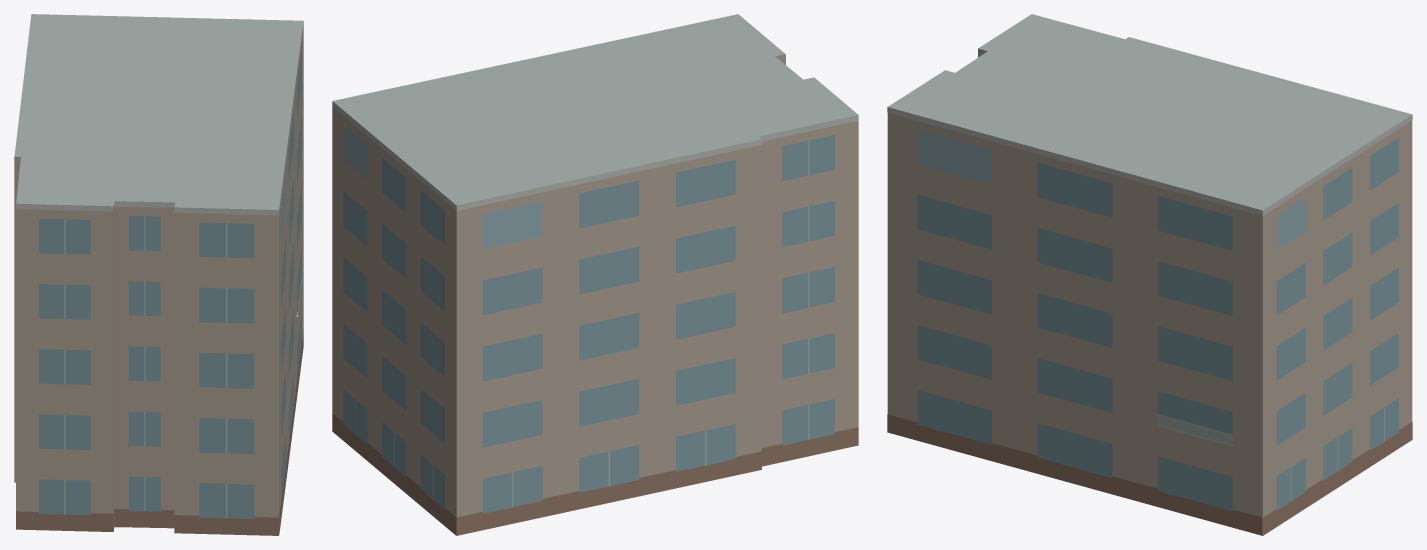
Rendered from survey-upis-32926103.glb.
The picture shows the model from 3 angles, left to right: view 1: azimuth 30°, elevation 25°; view 2: azimuth 150°, elevation 25°; view 3: azimuth 270°, elevation 25°; orthographic projection.
Visible parts, largest first — view 1: survey-upis-32926103.tmp; view 2: survey-upis-32926103.tmp; view 3: survey-upis-32926103.tmp.
Boxes of the visible parts, box(x1,y1,x2,y2) form: survey-upis-32926103.tmp: box(14, 14, 303, 535); survey-upis-32926103.tmp: box(332, 14, 858, 535); survey-upis-32926103.tmp: box(887, 14, 1412, 535).
Bounding box in the file's own units: 18.72 × 14.45 × 21.13.
